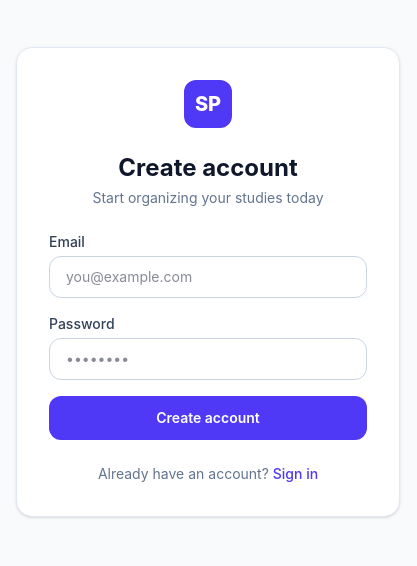
Test: CreateAccountPage › shows the generic auth error for duplicate email attempts
The width and height of the screenshot is (417, 566).
Type "existing@example.com" into the field labelled "Email" at (208, 277), box [49,256,367,298]
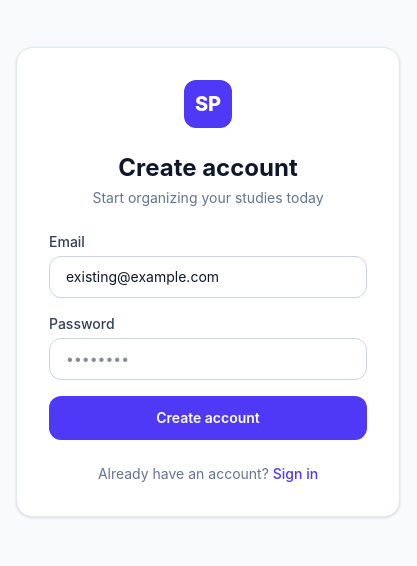
Type "pass123" into the password field labelled "Password" at (208, 359), box [49,338,367,380]
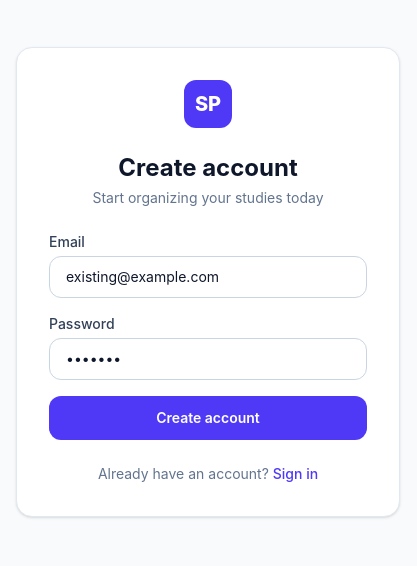
Click the button "Create account" at (208, 418), box [49,396,367,440]
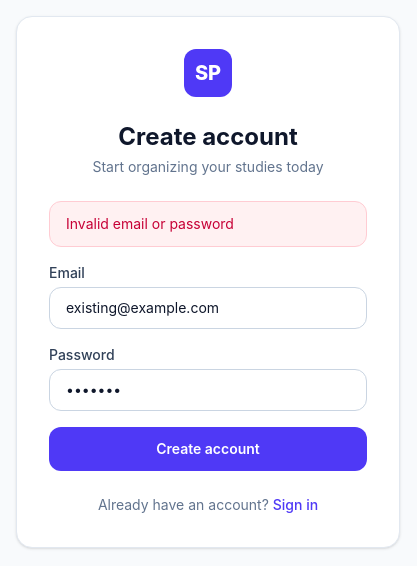
Expected: the message reads "Invalid email or password", [66,215,234,232]
